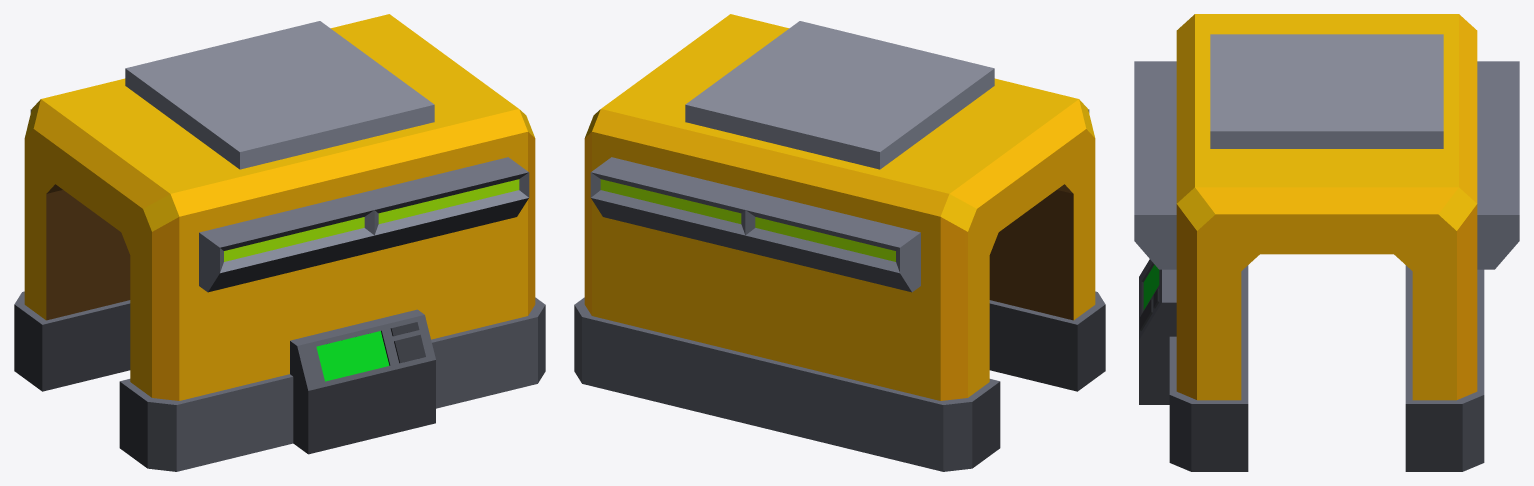
The model's file is NF_Machine_00_D.fbx.
The picture shows the model from 3 angles, left to right: view 1: azimuth 30°, elevation 25°; view 2: azimuth 150°, elevation 25°; view 3: azimuth 270°, elevation 25°; orthographic projection.
Visible parts, largest first — view 1: NF_Machine_00_D; view 2: NF_Machine_00_D; view 3: NF_Machine_00_D.
Part boxes in pixels (x1=…): NF_Machine_00_D: x1=14, y1=14, x2=545, y2=471; NF_Machine_00_D: x1=574, y1=14, x2=1105, y2=471; NF_Machine_00_D: x1=1134, y1=14, x2=1519, y2=471.
Bounding box in the file's own units: 3.11 × 2.13 × 2.56.
Materials: 1 (1 with a texture image).
